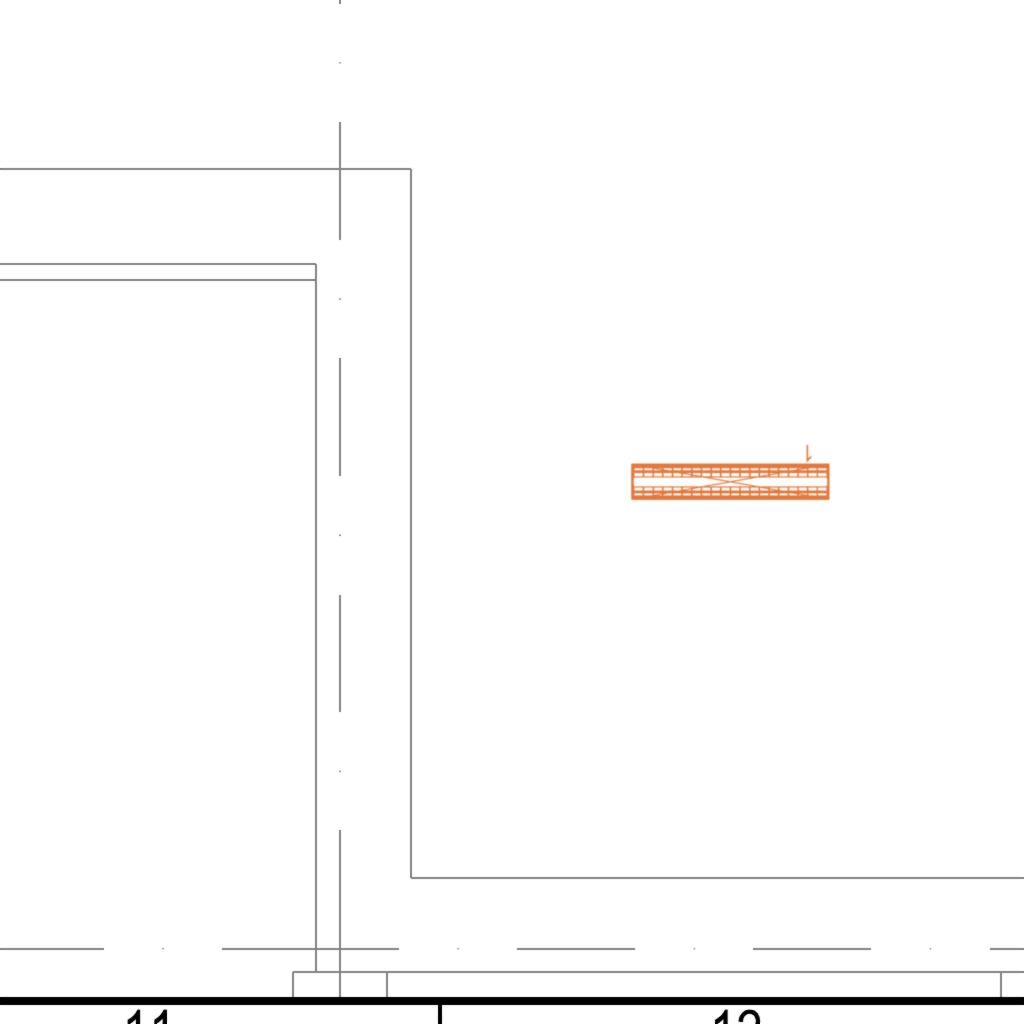Buero_Pendelleuchten_LED: (627, 440, 833, 505)
